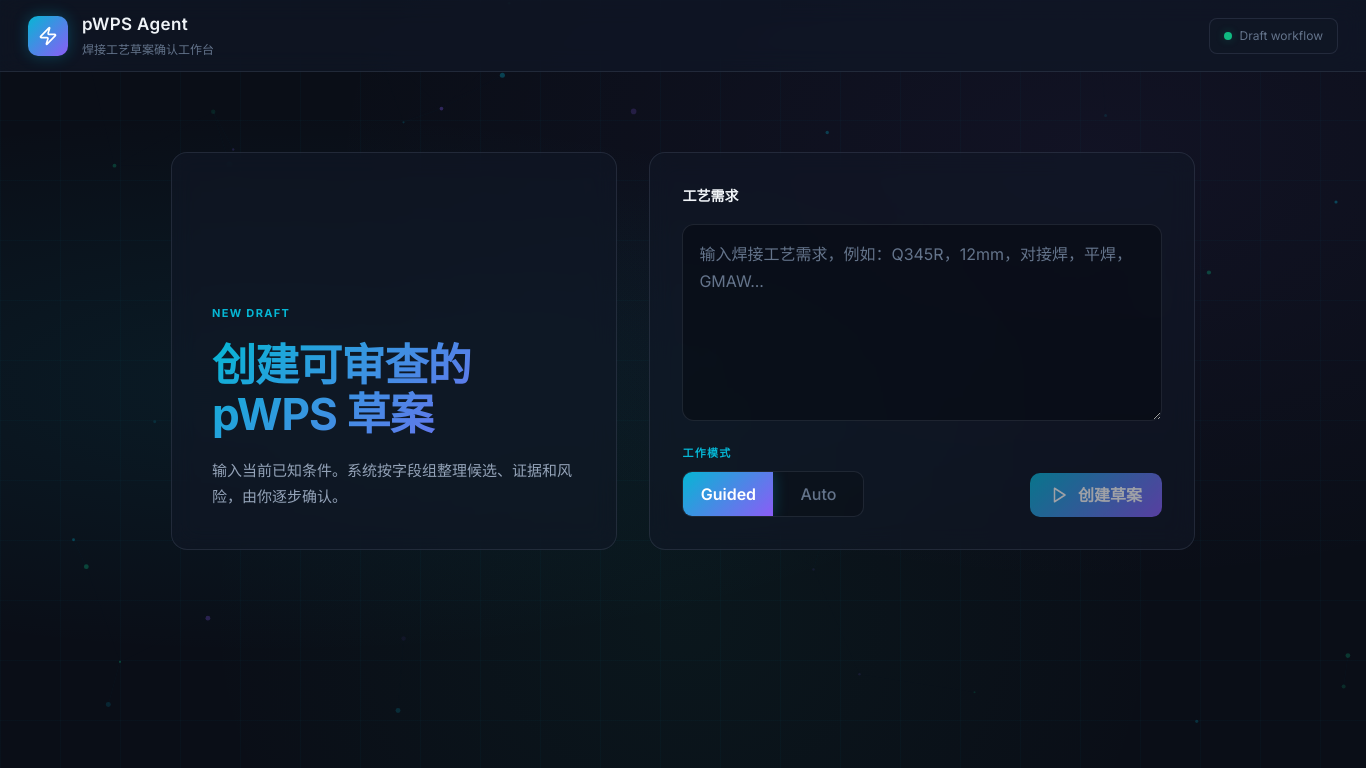
Test: GuidedWorkbench › enables create button when input is provided
This screenshot has width=1366, height=768.
In the text box labelled "工艺需求": (922, 323) [682,224,1162,421], type "Q345R，12mm，对接焊，平焊，GMAW，生成 pWPS 草案"
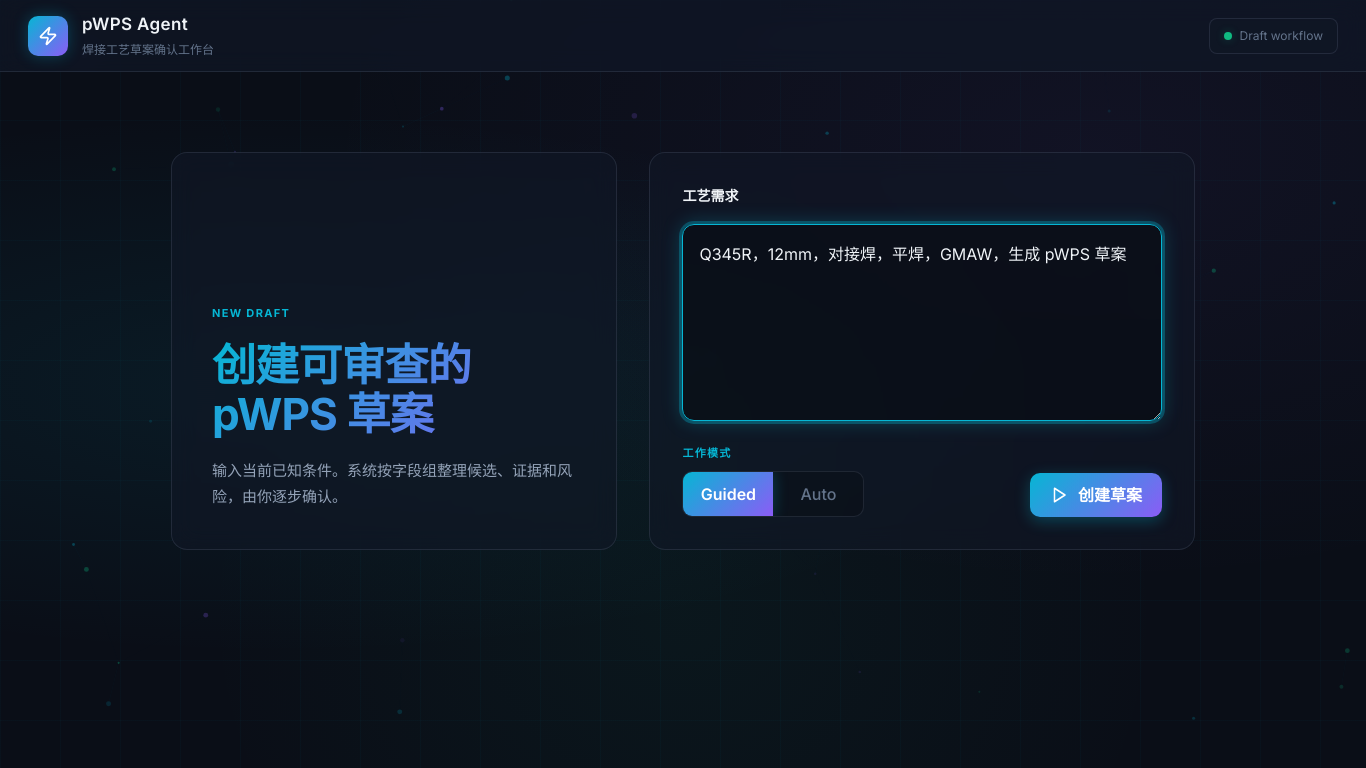
Expected: the button "创建草案" is enabled, [1030,473,1162,517]
